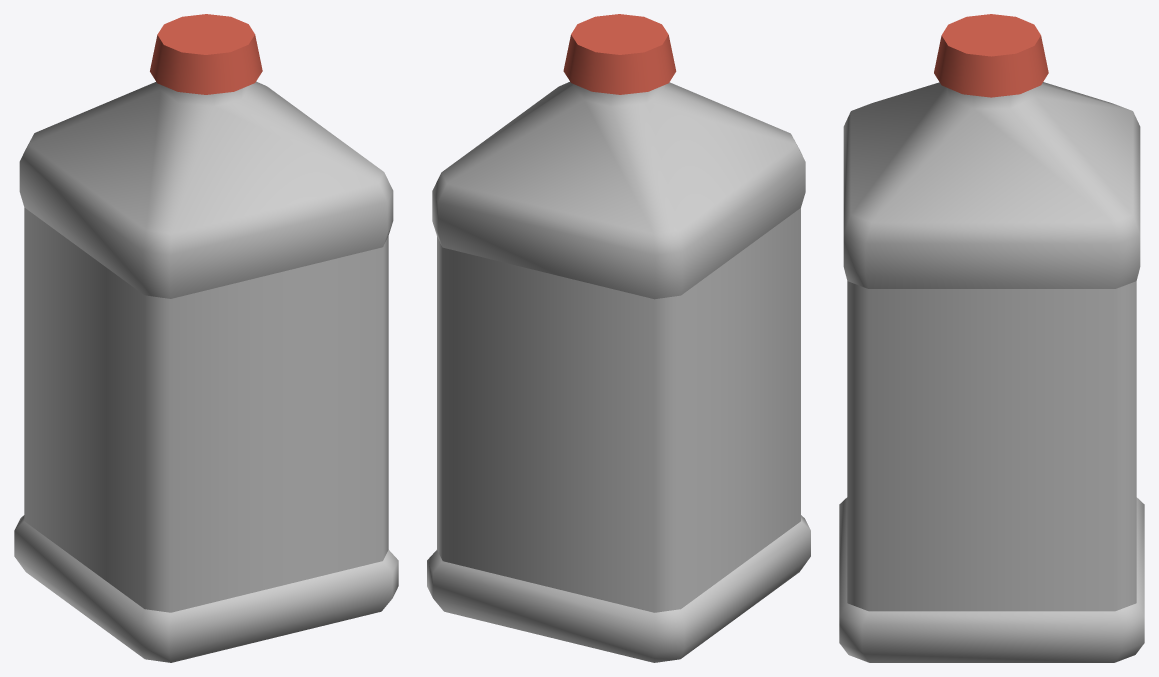
File: SM_Bottle_01.fbx
3 renders of one model, left to right at view 1: azimuth 30°, elevation 25°; view 2: azimuth 150°, elevation 25°; view 3: azimuth 270°, elevation 25°, orthographic. The views are drawn at different scales.
Visible parts, largest first — view 1: SM_Bottle_01; view 2: SM_Bottle_01; view 3: SM_Bottle_01.
Part boxes in pixels (bbox=[...]): SM_Bottle_01: bbox=[14, 14, 398, 662]; SM_Bottle_01: bbox=[427, 14, 810, 662]; SM_Bottle_01: bbox=[839, 14, 1144, 662].
Bounding box in the file's own units: 14.12 × 28.92 × 14.11.
